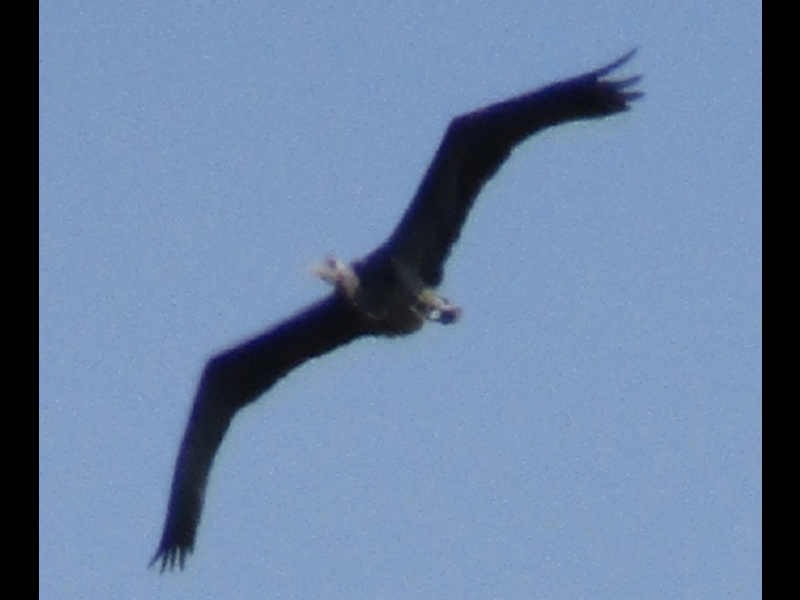heron: (143, 41, 651, 580)
